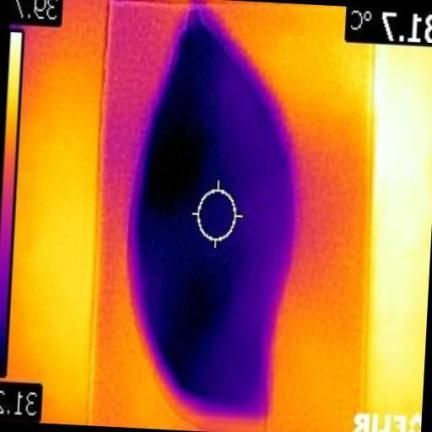mango: (130, 8, 295, 418)
